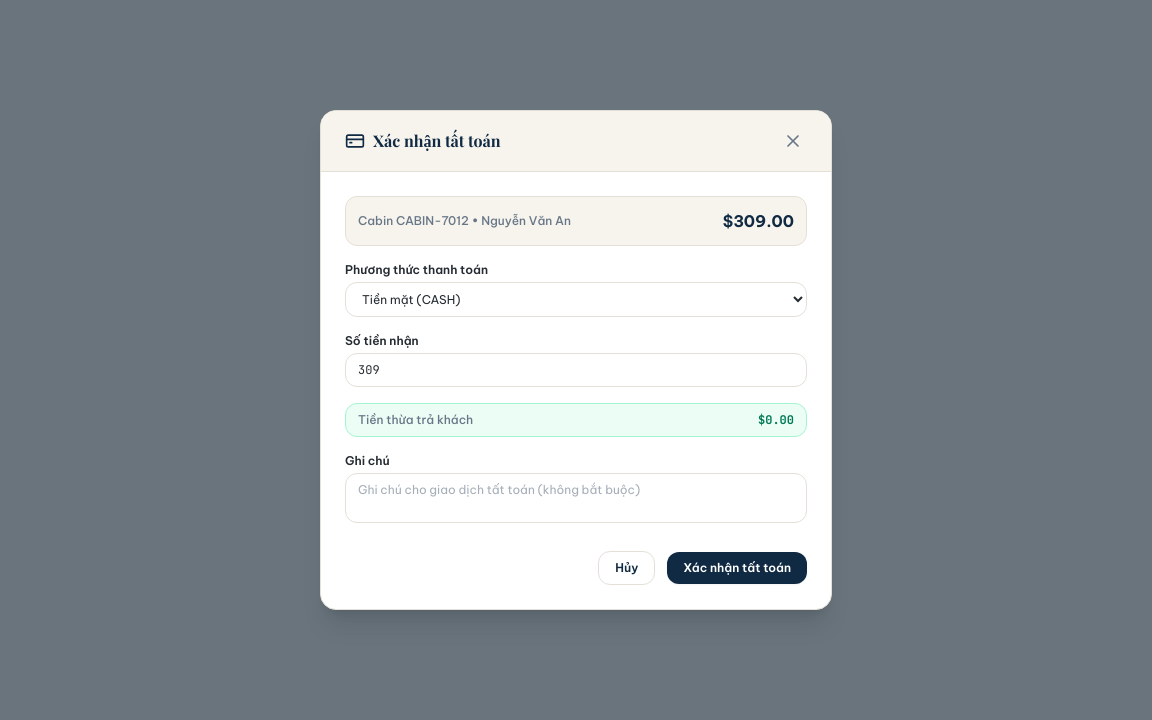
Test: PaymentCaptureModal › shows an inline validation error and does not confirm when the tender is insufficient
Replace the text in the number field labelled "Số tiền nhận" with "100": (576, 370) [345,353,807,387]
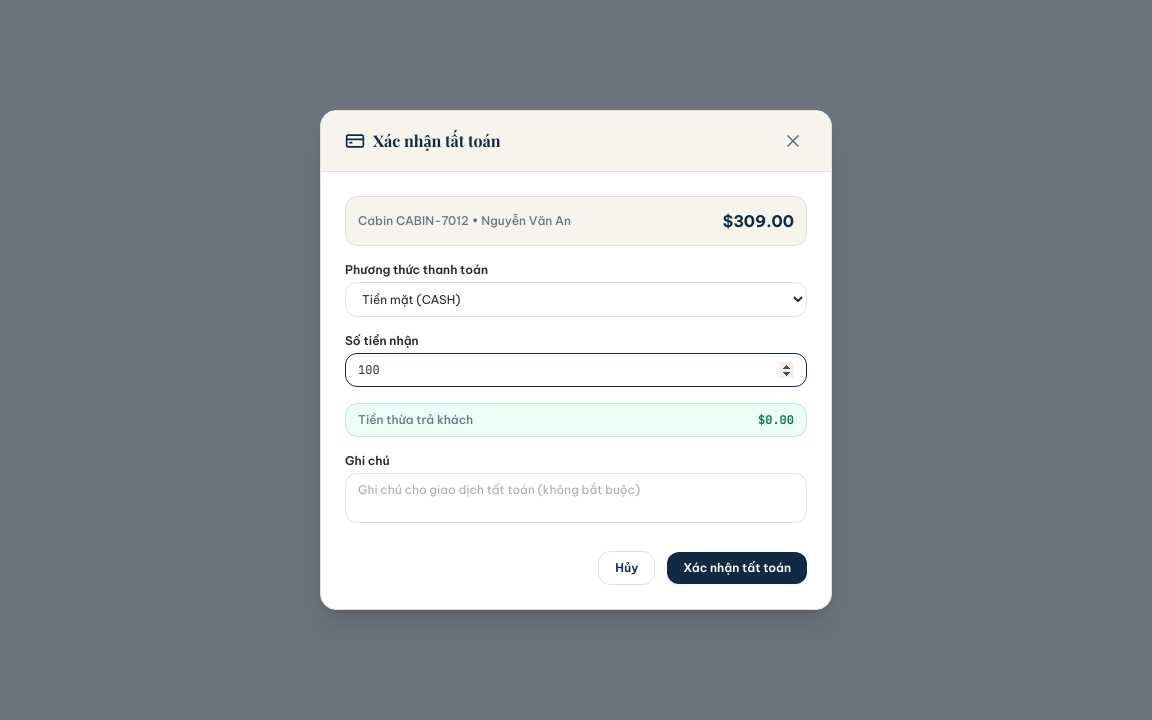
Click the button "Xác nhận tất toán": (737, 568) [667,552,807,584]
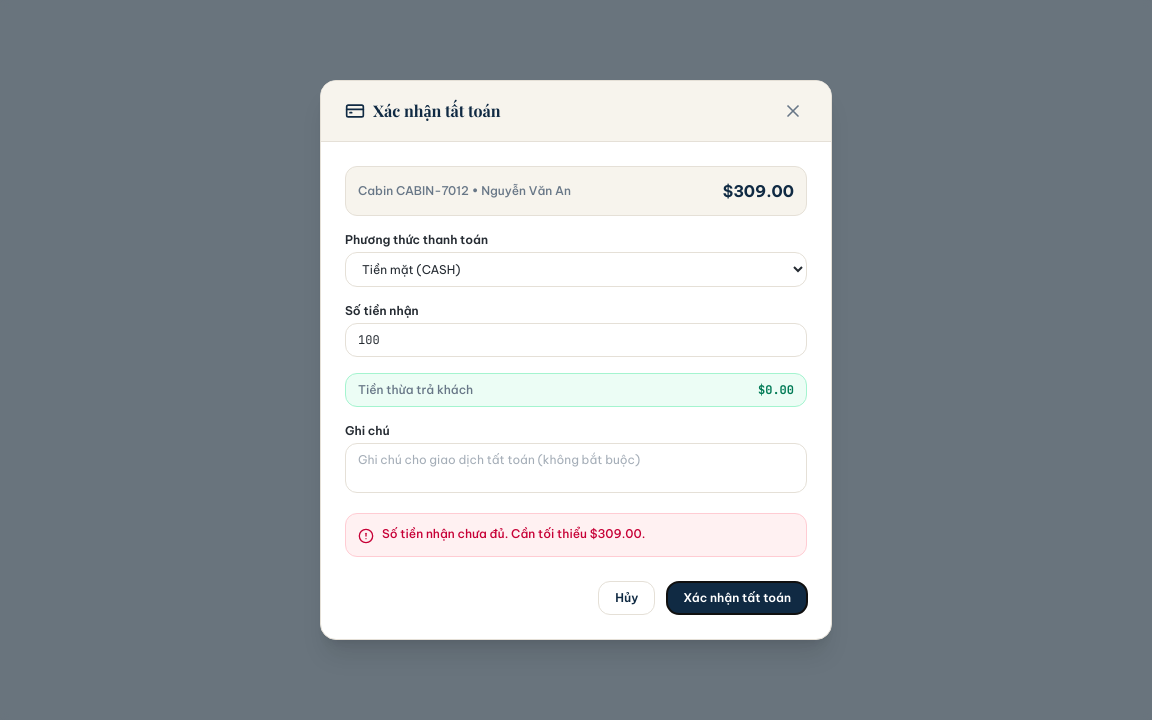
Expected: the message shows "Số tiền nhận chưa đủ", [382,526,645,541]
